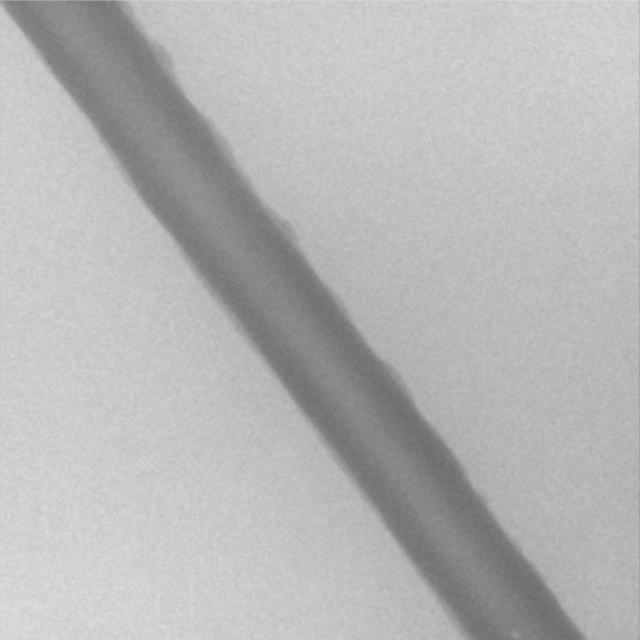air hole: (510, 631, 520, 636)
